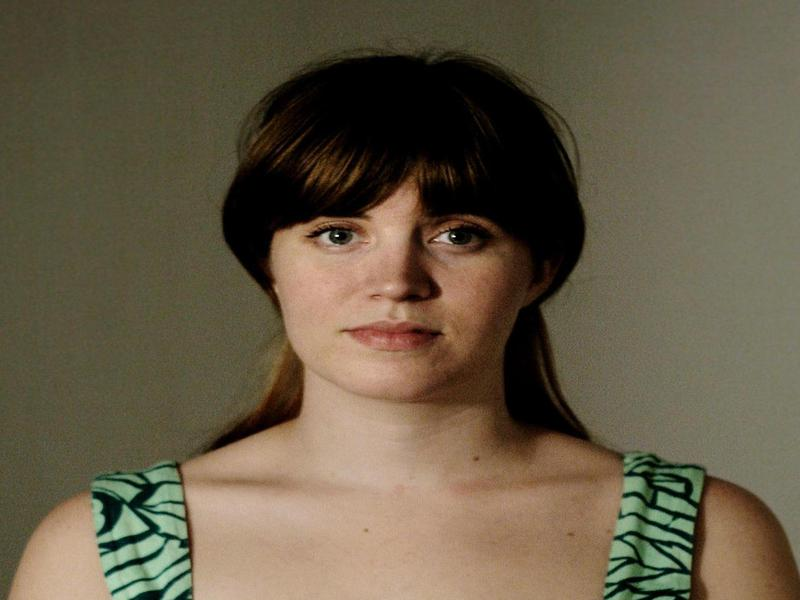person: (13, 58, 796, 600)
